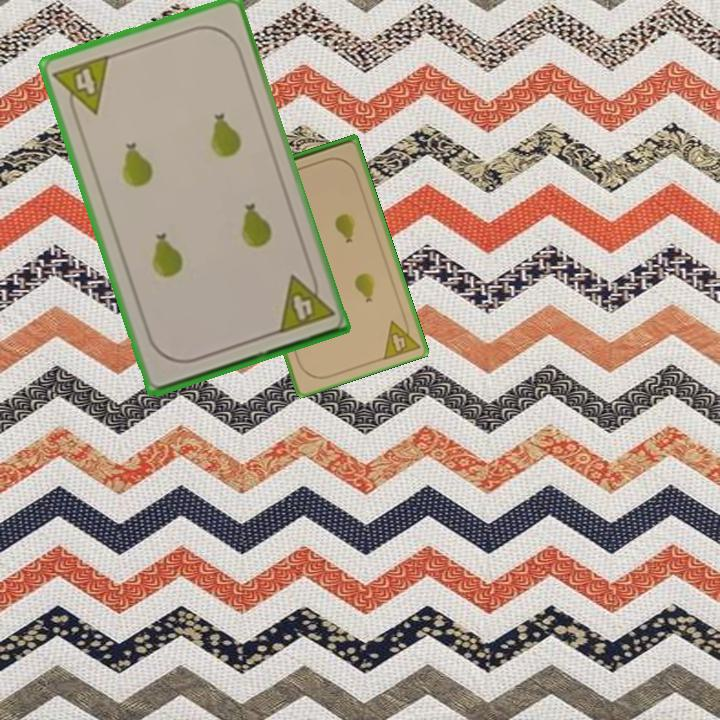4p: (49, 51, 113, 123), (274, 267, 337, 337), (379, 311, 423, 362)
